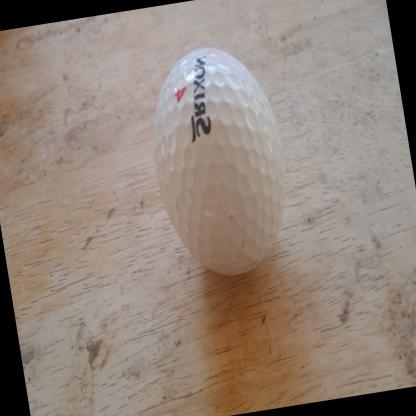Golf: (134, 34, 302, 288)
